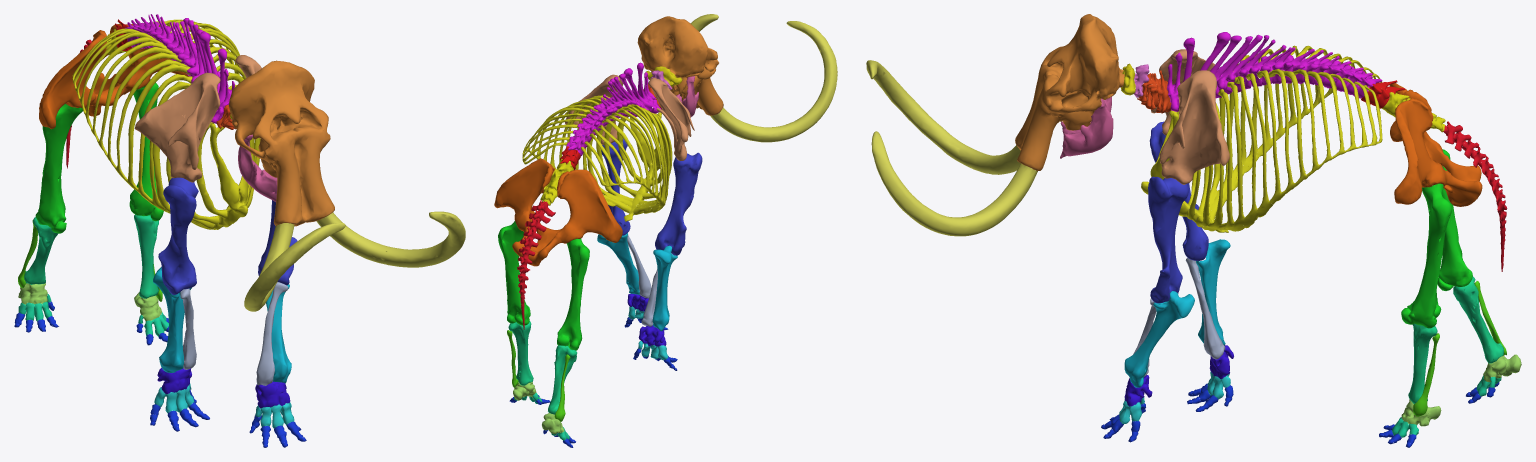
The model's file is Name_That_Bone_New.gltf.
3 renders of one model, left to right at view 1: azimuth 30°, elevation 25°; view 2: azimuth 150°, elevation 25°; view 3: azimuth 270°, elevation 25°, orthographic. The views are drawn at different scales.
Visible parts, largest first — view 1: ribs, skull, tusk, scapula, tibia, pelvis, humerus, thoracic vertebrae, ulna, femur, phalanges, radius (+5 smaller); view 2: ribs, pelvis, skull, tibia, tusk, humerus, thoracic vertebrae, scapula, ulna, femur, caudal vertebrae, radius (+7 smaller); view 3: ribs, skull, tusk, thoracic vertebrae, scapula, pelvis, tibia, humerus, ulna, femur, mandible, phalanges (+7 smaller).
Part boxes in pixels (box(x1,y1,x2,y2)): ribs: box(72, 19, 260, 229); skull: box(228, 60, 334, 226); tusk: box(244, 211, 465, 311); scapula: box(134, 55, 261, 182); tibia: box(35, 79, 163, 233); pelvis: box(39, 23, 188, 129); humerus: box(158, 177, 297, 294); thoracic vertebrae: box(125, 14, 234, 123); ulna: box(153, 267, 291, 383); femur: box(24, 214, 158, 298); phalanges: box(14, 301, 306, 447); radius: box(180, 282, 288, 385); ribs: box(522, 95, 672, 221); pelvis: box(494, 158, 622, 266); skull: box(637, 16, 723, 115); tibia: box(498, 221, 589, 350); tusk: box(690, 14, 837, 142); humerus: box(601, 138, 702, 255); thoracic vertebrae: box(566, 62, 661, 156); scapula: box(565, 74, 694, 160); ulna: box(597, 233, 677, 331); femur: box(508, 321, 577, 414); caudal vertebrae: box(517, 200, 555, 329); radius: box(627, 234, 674, 326); ribs: box(1141, 45, 1382, 232); skull: box(1015, 14, 1124, 170); tusk: box(866, 60, 1037, 236); thoracic vertebrae: box(1167, 32, 1382, 111); scapula: box(1151, 49, 1229, 184); pelvis: box(1389, 83, 1482, 206); tibia: box(1401, 149, 1472, 328); humerus: box(1148, 121, 1208, 303); ulna: box(1124, 239, 1230, 387); femur: box(1408, 276, 1503, 403); mandible: box(1060, 96, 1113, 158); phalanges: box(1101, 382, 1499, 447).
Bounding box in the file's own units: 1.92 × 3.44 × 5.08.
